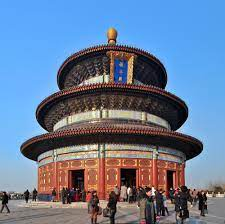Temple: (20, 26, 205, 200)
